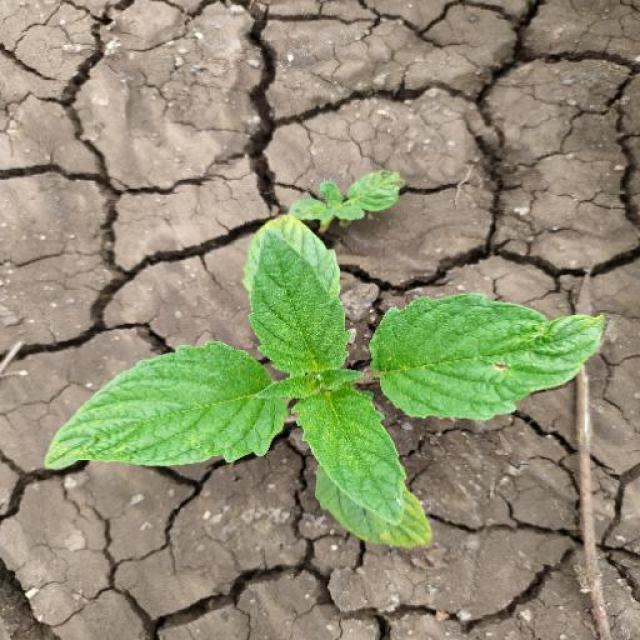crop: (51, 222, 614, 564)
